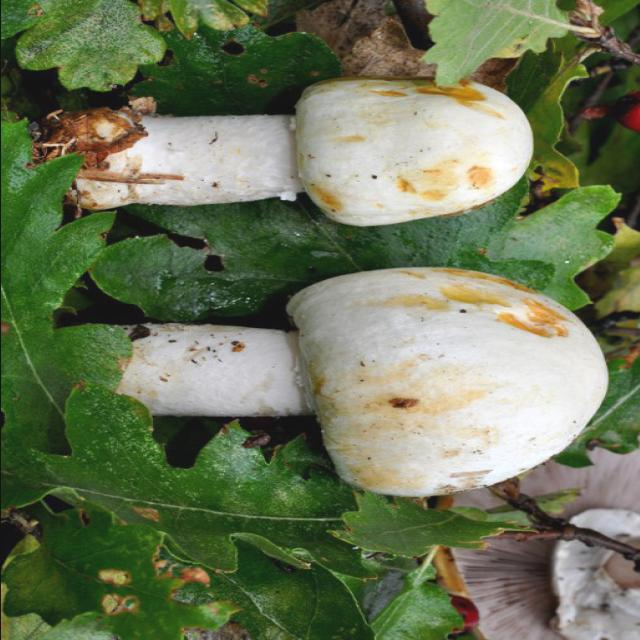Agaricus bisporus: (56, 79, 536, 227)
